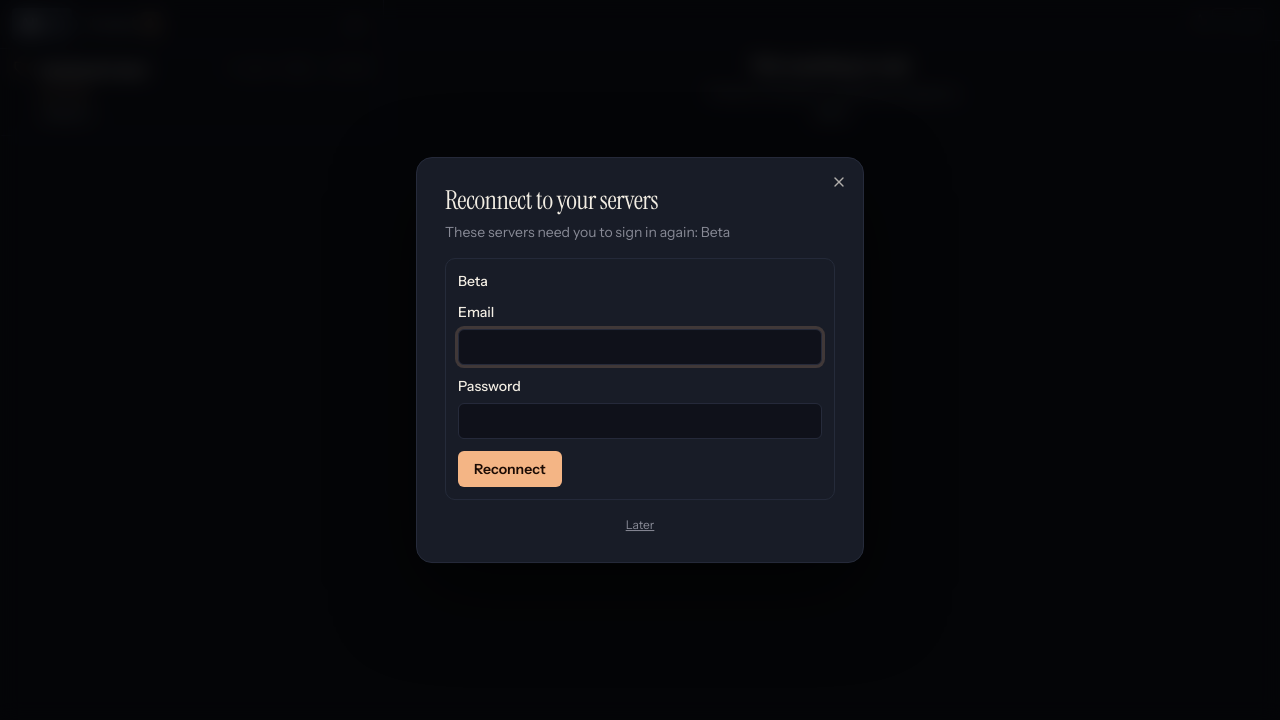
Test case: FeedClientView › lets the reconnect dialog be dismissed
Click the button "Later".
click(640, 525)  # box [445,516,835,534]
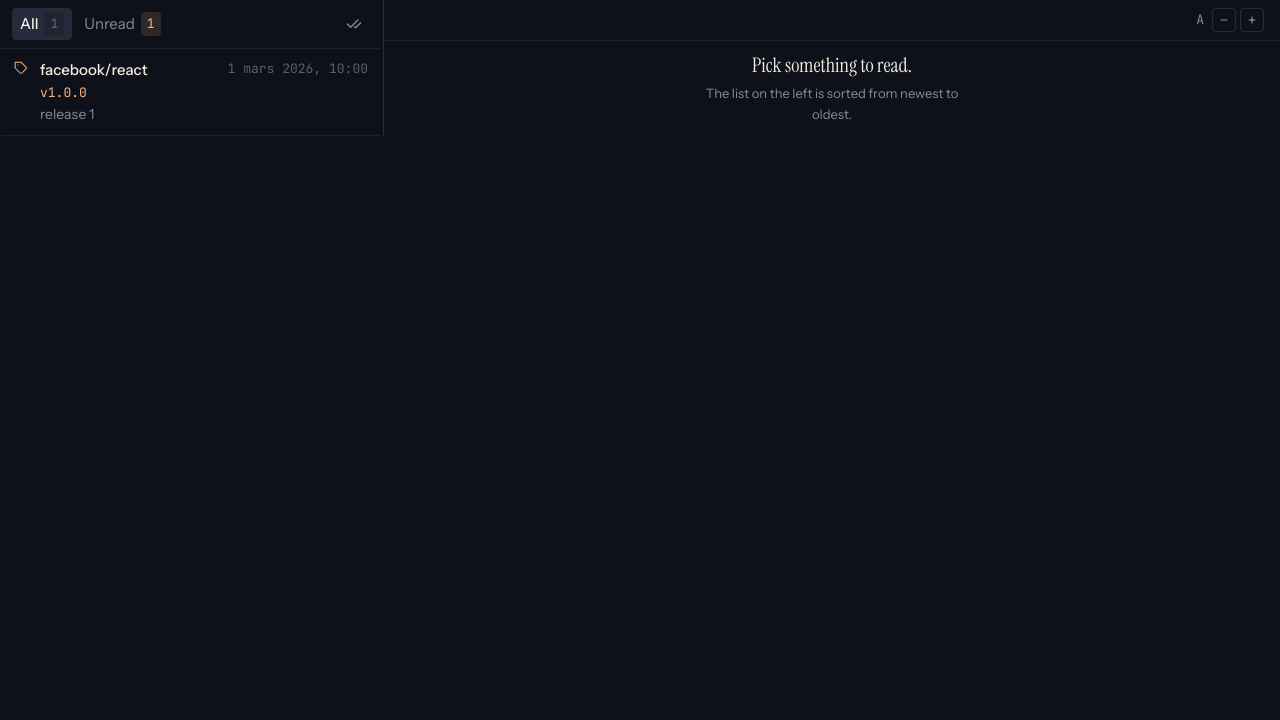
Check: the heading "Reconnect to your servers" is gone
